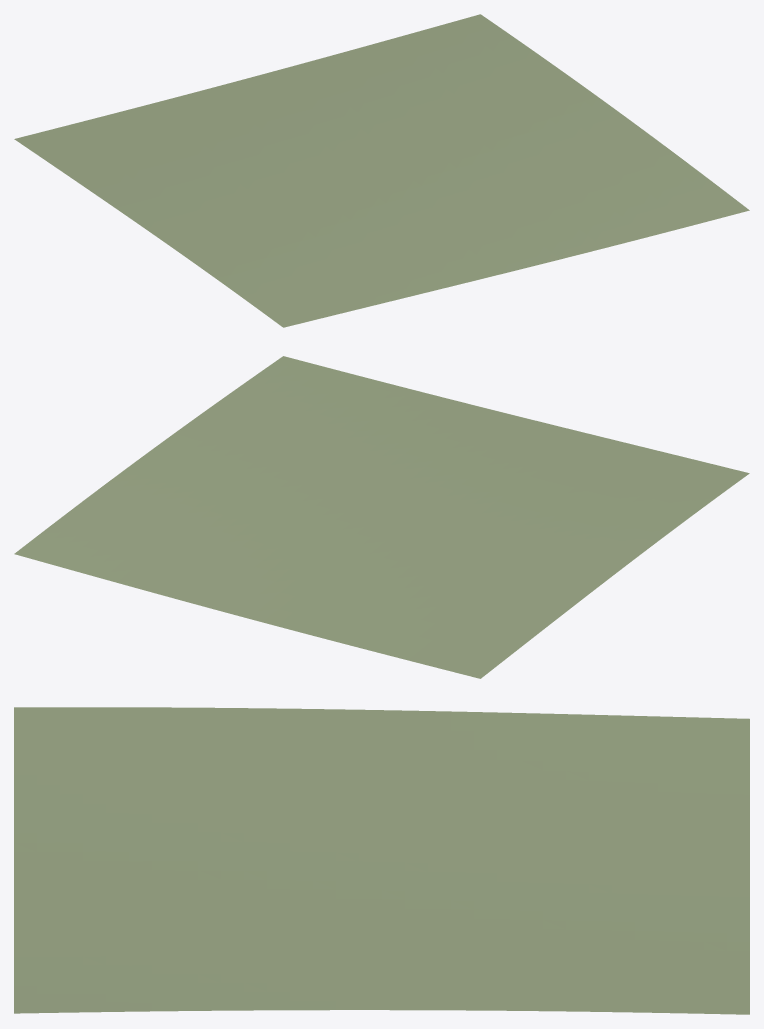
The model's file is expanse-27-2.glb.
3 renders of one model, top to bottom at view 1: azimuth 30°, elevation 25°; view 2: azimuth 150°, elevation 25°; view 3: azimuth 270°, elevation 25°, orthographic. The views are drawn at different scales.
Visible parts, largest first — view 1: expanse-27-2; view 2: expanse-27-2; view 3: expanse-27-2.
Part boxes in pixels (left/top/right/bottom): expanse-27-2: left=14, top=14, right=749, bottom=327; expanse-27-2: left=14, top=356, right=749, bottom=678; expanse-27-2: left=14, top=707, right=749, bottom=1014.
Bounding box in the file's own units: 256 × 7.58 × 256.
